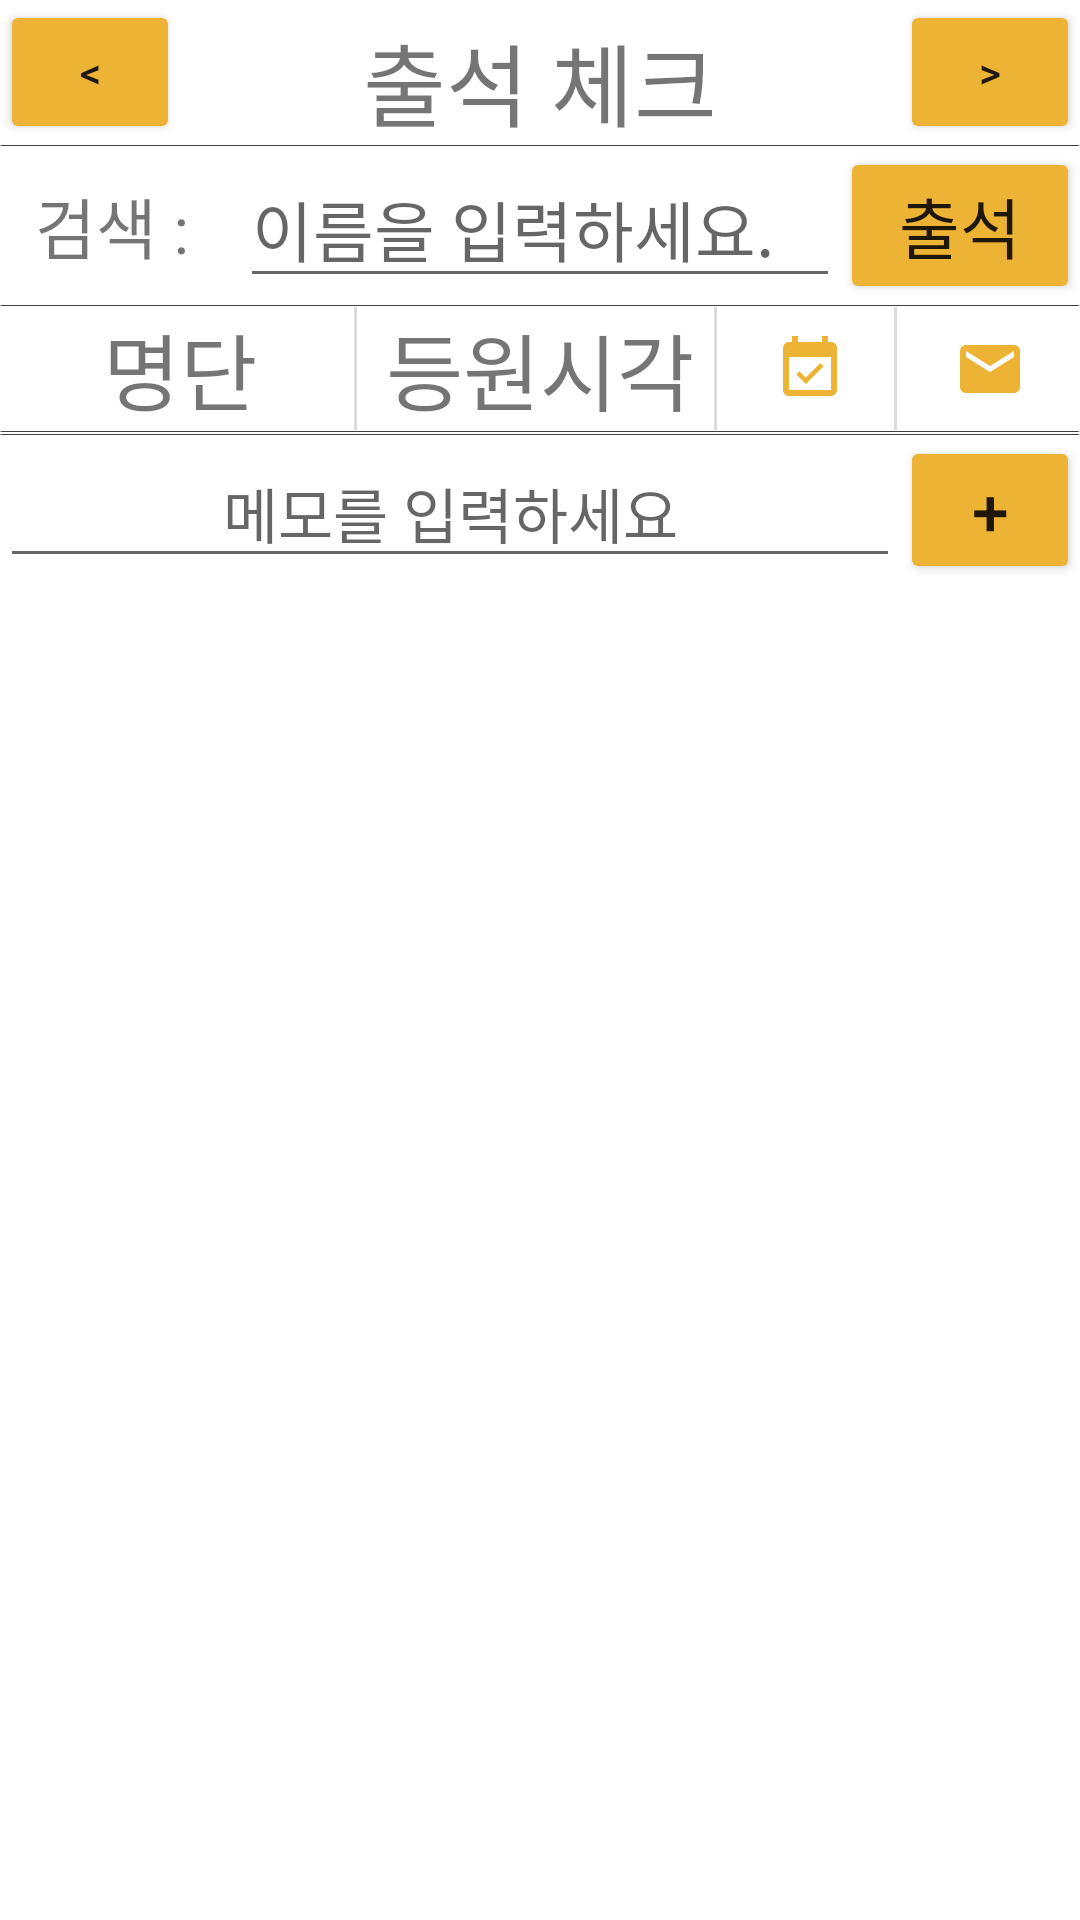

Icons on this 1080×1920 Android screen, each with its box as [left=x1, top=y1, right=x2, bottom=y2]:
email: [left=960, top=345, right=1020, bottom=393]
